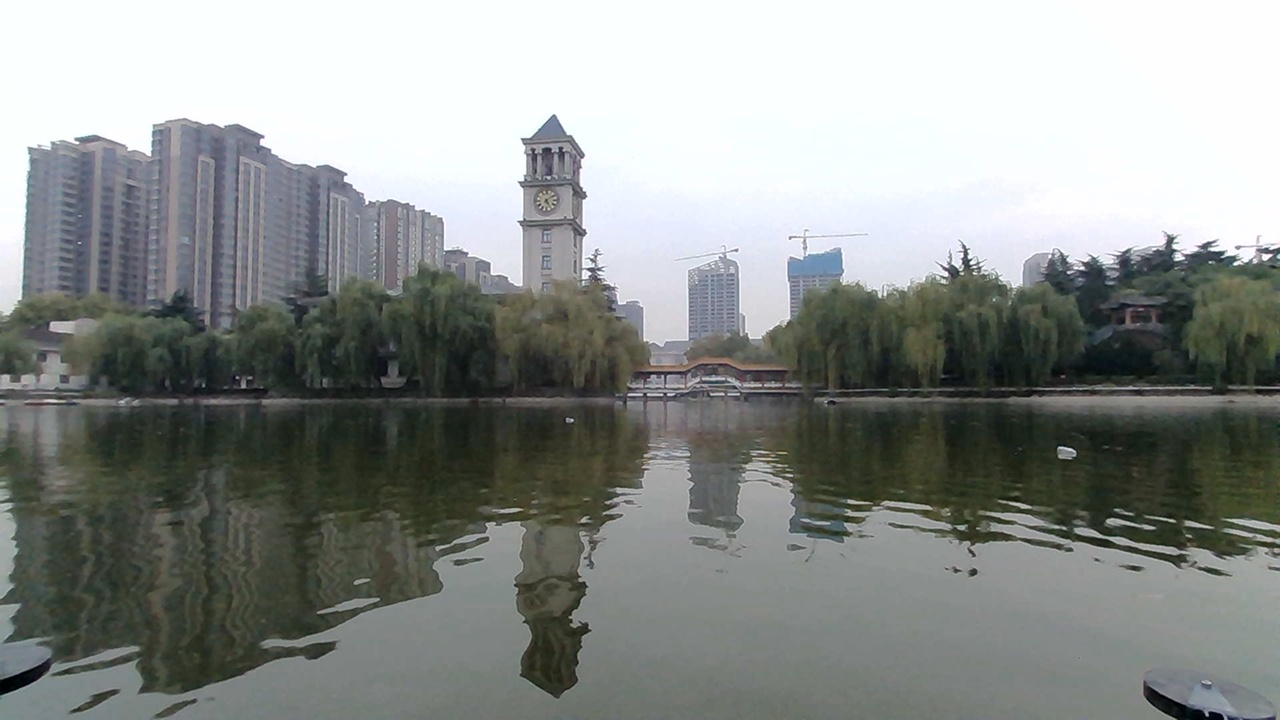bottle: (1052, 443, 1084, 464)
